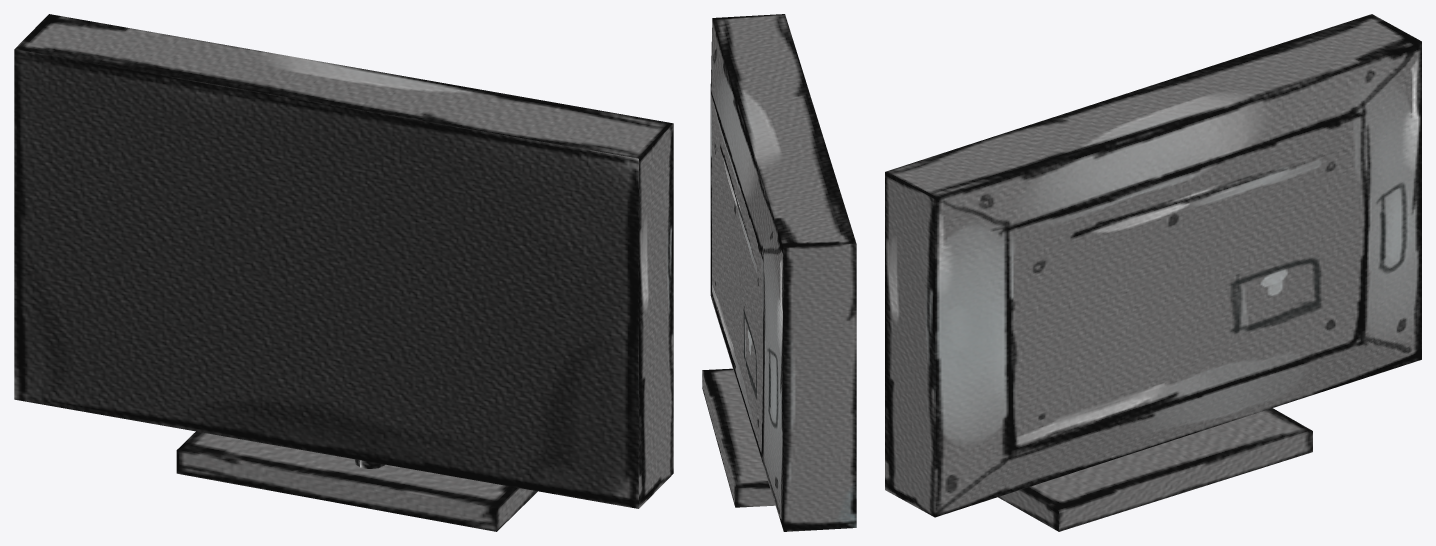
File: furniture_tv.glb
3 renders of one model, left to right at view 1: azimuth 30°, elevation 25°; view 2: azimuth 150°, elevation 25°; view 3: azimuth 270°, elevation 25°, orthographic. The views are drawn at different scales.
Visible parts, largest first — view 1: TV; view 2: TV; view 3: TV.
Part boxes in pixels (bbox=[...]): TV: bbox=[14, 14, 673, 531]; TV: bbox=[702, 14, 856, 531]; TV: bbox=[885, 14, 1421, 531].
Bounding box in the file's own units: 0.0448 × 0.0403 × 0.0548.
1 material, 1 textured.
